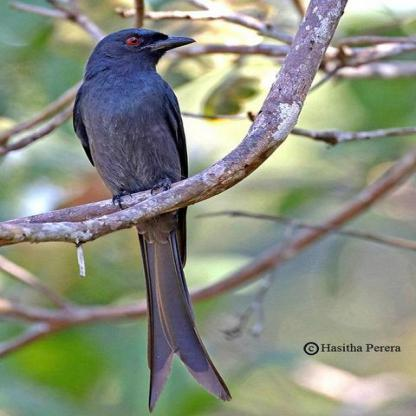Burung: (71, 24, 237, 411)
